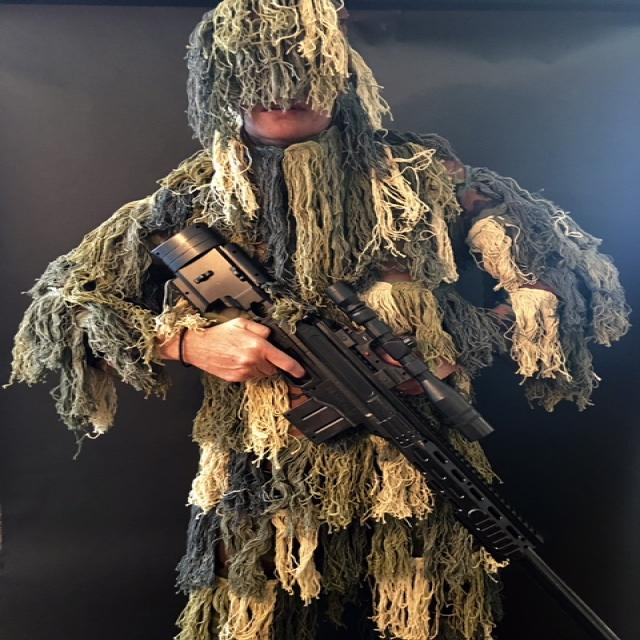Human: (11, 4, 626, 616)
